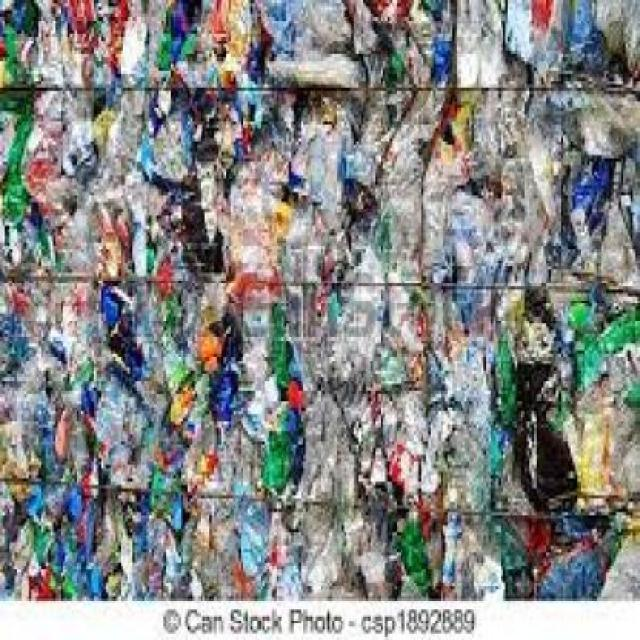garbage: (11, 8, 622, 580)
